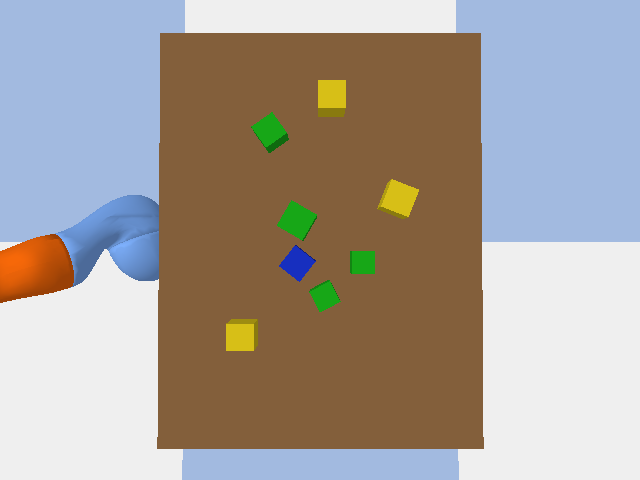blue_obj: (279, 245, 315, 281)
green_obj: (277, 200, 316, 240), (251, 112, 288, 152), (309, 280, 340, 311), (350, 251, 374, 273)
yellow_obj: (377, 179, 418, 218), (318, 80, 345, 116), (226, 319, 257, 350)
